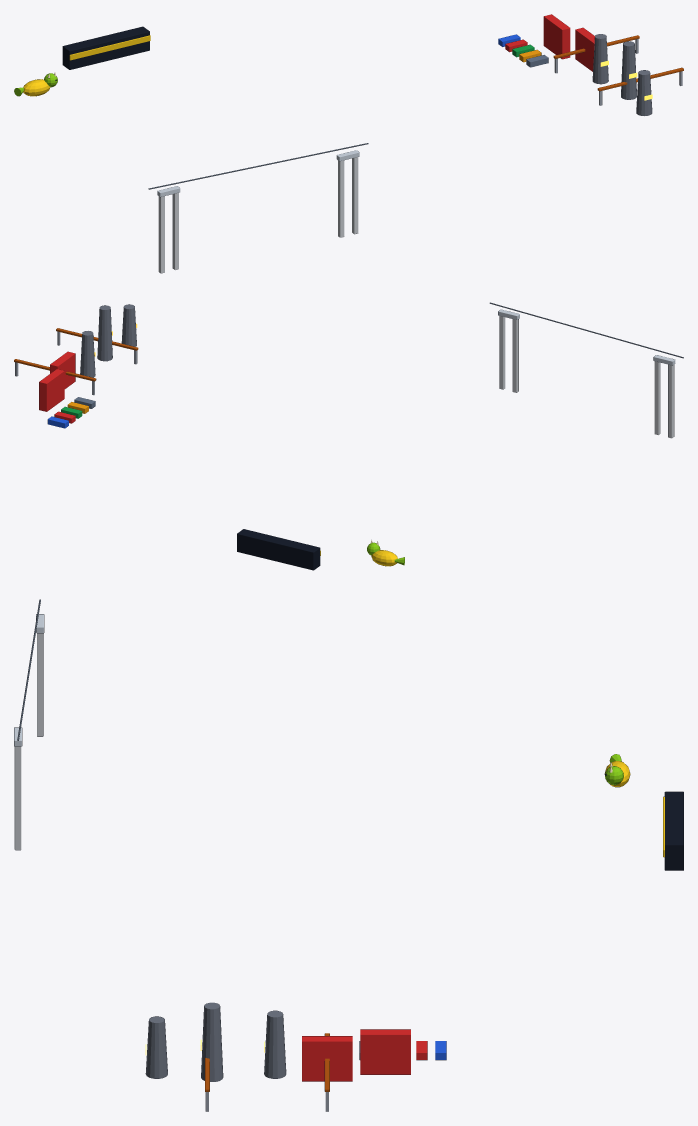
Rendered from gwangyang.glb.
3 views of the same model, one above another, from view 1: azimuth 30°, elevation 25°; view 2: azimuth 150°, elevation 25°; view 3: azimuth 270°, elevation 25° (orthographic). The views are drawn at different scales.
Visible parts, largest first — view 1: gwangyang_landmarks; view 2: gwangyang_landmarks; view 3: gwangyang_landmarks.
Part boxes in pixels (x1,y1,x2,y2): gwangyang_landmarks: (14, 14, 683, 273); gwangyang_landmarks: (14, 302, 683, 570); gwangyang_landmarks: (14, 599, 683, 1111).
Size of the model in its own units: 592 by 82.66 by 425.
